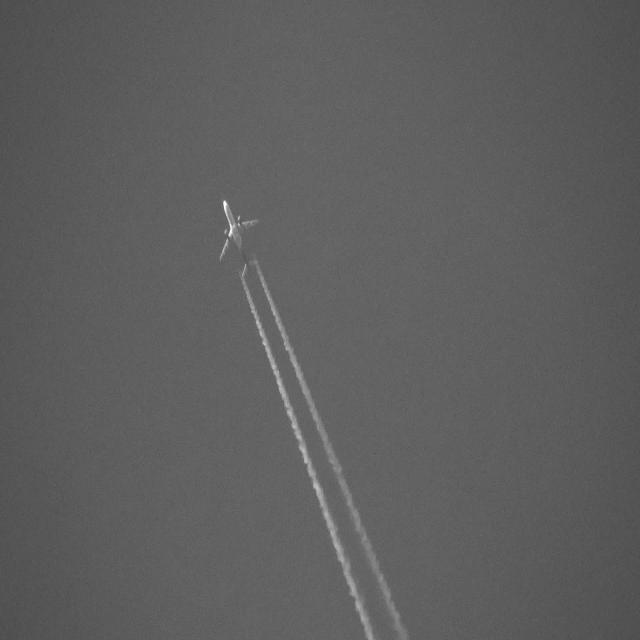aeroplane: (217, 190, 261, 292)
